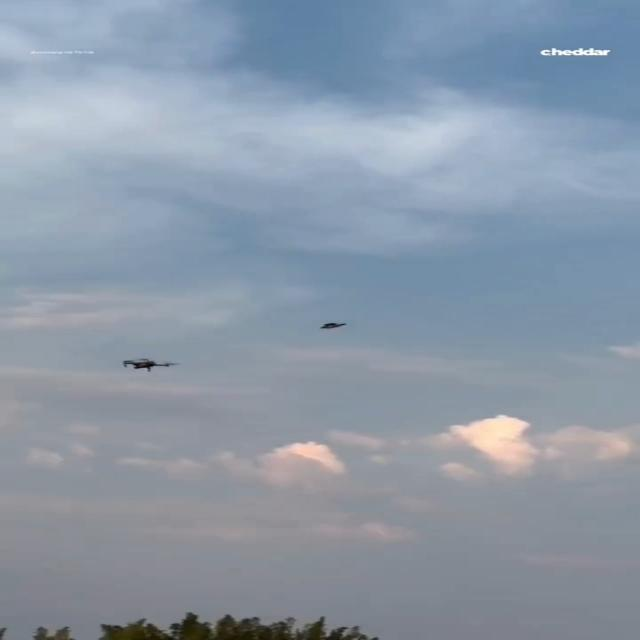bird: (319, 322, 346, 330)
drone: (122, 358, 178, 372)
